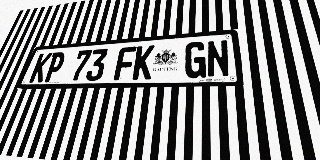3: (85, 48, 108, 81)
7: (69, 50, 93, 81)
F: (113, 46, 137, 80)
G: (184, 41, 206, 78)
K: (132, 45, 155, 80), (28, 53, 53, 83)
N: (207, 39, 230, 78)
P: (42, 52, 67, 82)
